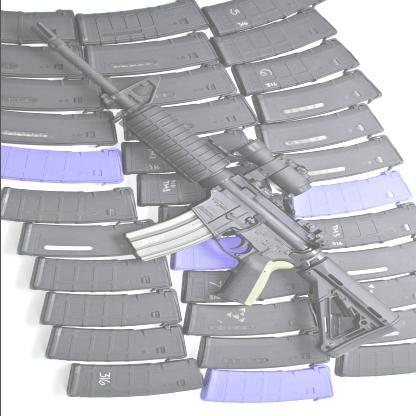rifle: (26, 17, 406, 365)
